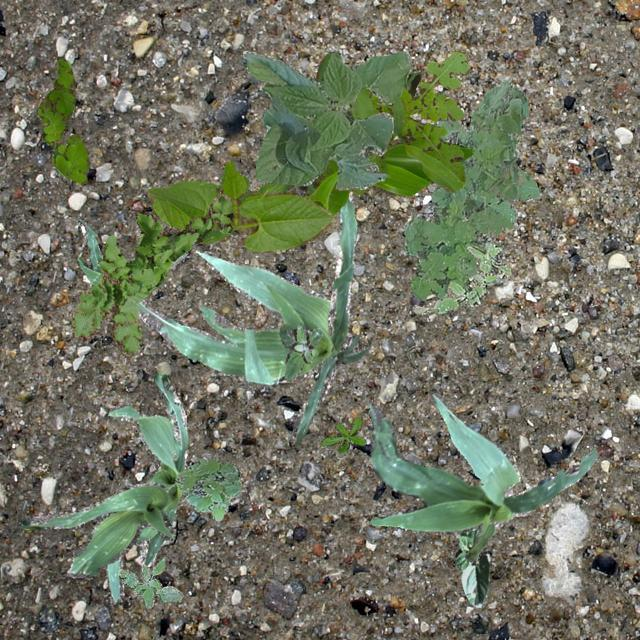crop: (136, 190, 368, 442), (198, 51, 472, 242), (368, 392, 598, 560), (242, 50, 410, 188), (104, 372, 186, 600), (146, 160, 334, 252), (17, 482, 175, 576), (76, 216, 184, 284), (454, 528, 488, 606)
weed: (404, 79, 540, 308), (70, 192, 232, 354), (348, 49, 469, 194), (412, 240, 508, 314), (38, 58, 88, 182), (172, 456, 240, 520), (118, 558, 182, 608), (278, 322, 322, 380), (320, 416, 364, 452)
